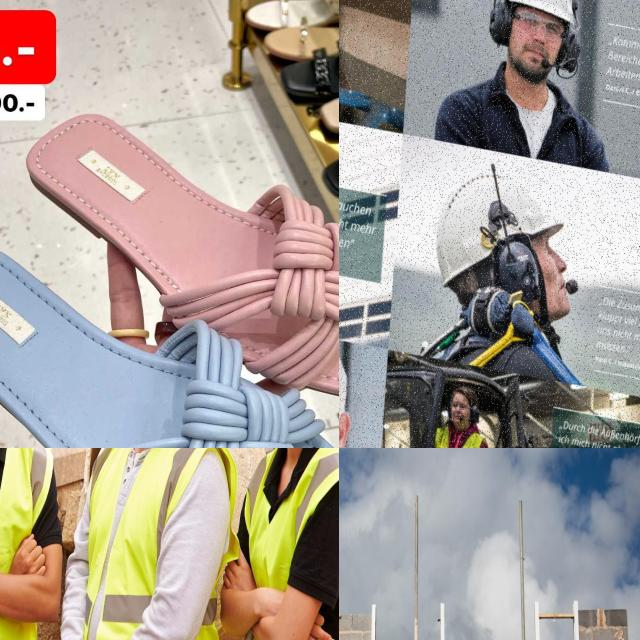No_Ear-Protection: (339, 413, 353, 448)
No_Glasses: (531, 238, 558, 258), (452, 400, 469, 410)
Sandals: (0, 82, 339, 448), (0, 208, 339, 448)
face_nomask: (508, 20, 559, 83), (541, 254, 571, 325), (452, 408, 470, 430)
glasses: (512, 12, 564, 40)
hand_noglove: (12, 519, 51, 608), (217, 539, 260, 614)
head_helmet: (437, 175, 563, 284), (509, 0, 576, 25)
head_nohelmet: (452, 386, 478, 406)
person: (80, 448, 233, 640), (232, 448, 339, 640)
vest: (83, 448, 225, 640), (230, 448, 339, 640), (0, 448, 49, 640)
